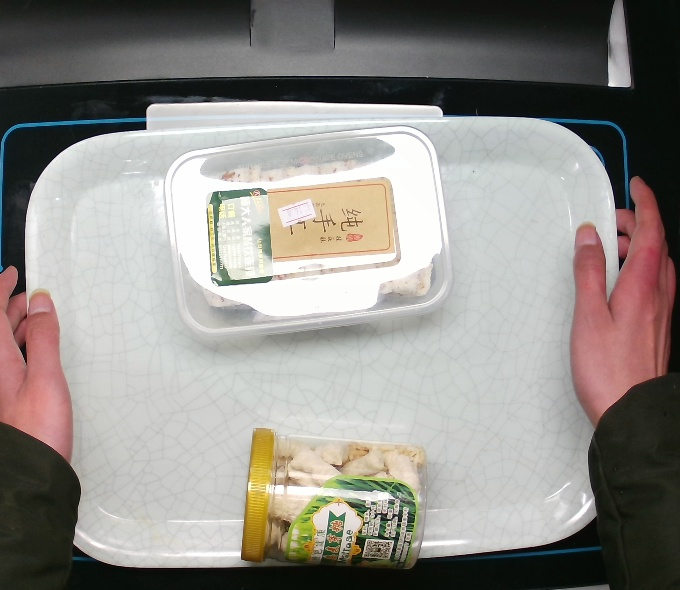wcq-GuiHuaGao: (159, 122, 459, 341)
wcq-MaiYaTang: (238, 421, 432, 574)
